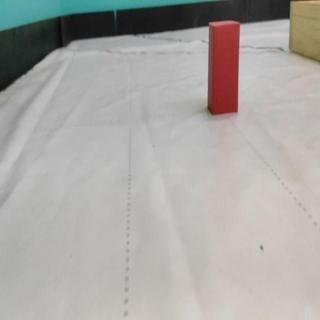redbox: (207, 18, 240, 116)
